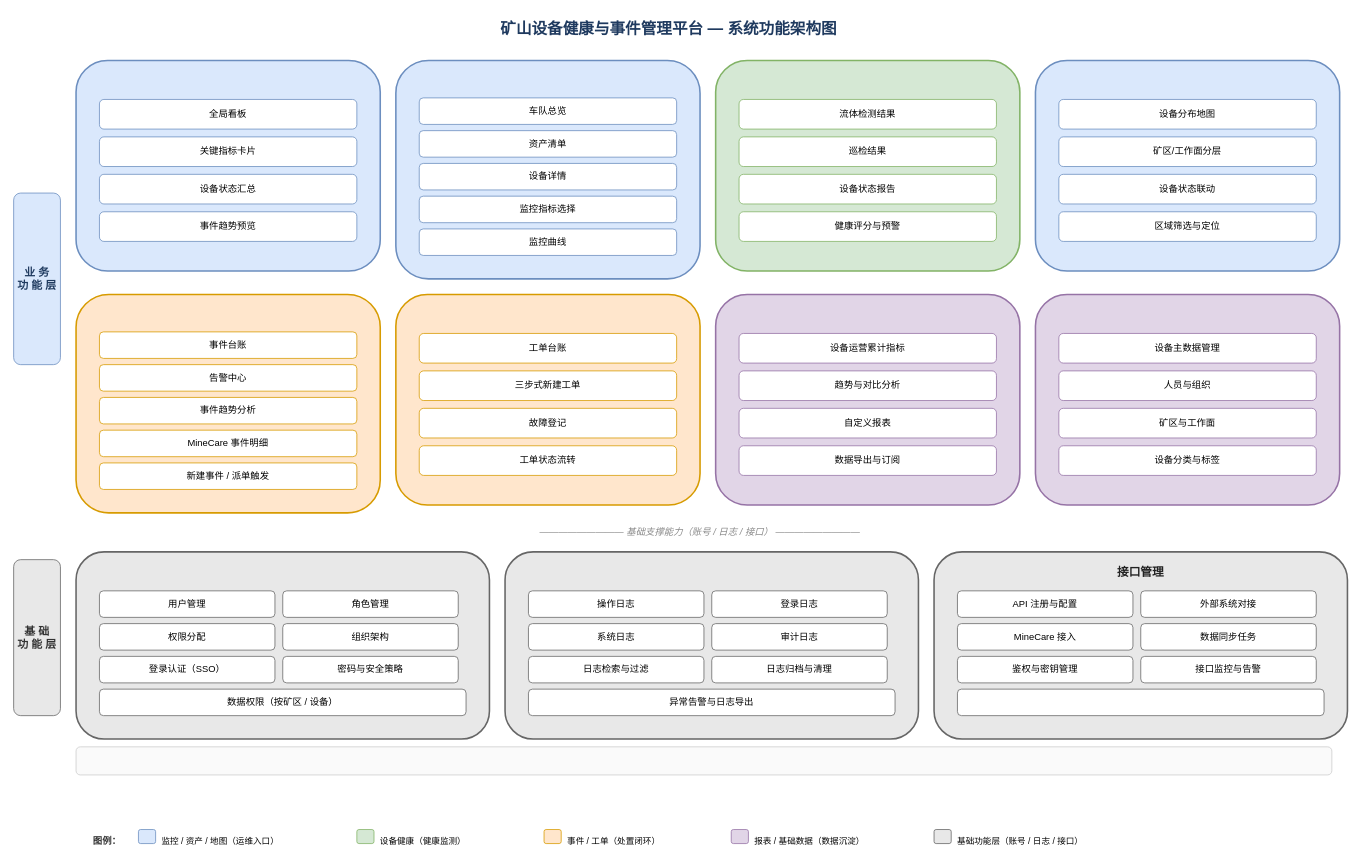
Image size: 1362x866. Some labels were removed from this diagram. Each missing label, with the box of its shape:
事件中心: (75, 293, 381, 513)
地图视图: (1034, 59, 1340, 271)
基础数据: (1034, 293, 1340, 505)
工单管理: (395, 293, 700, 505)
报表分析: (714, 293, 1020, 505)
日志管理: (504, 551, 919, 739)
监控总览: (75, 59, 381, 271)
设备健康: (714, 59, 1020, 271)
调用日志与流量统计: (957, 688, 1324, 716)
账号管理: (75, 551, 490, 739)
资产中心: (395, 59, 700, 279)
